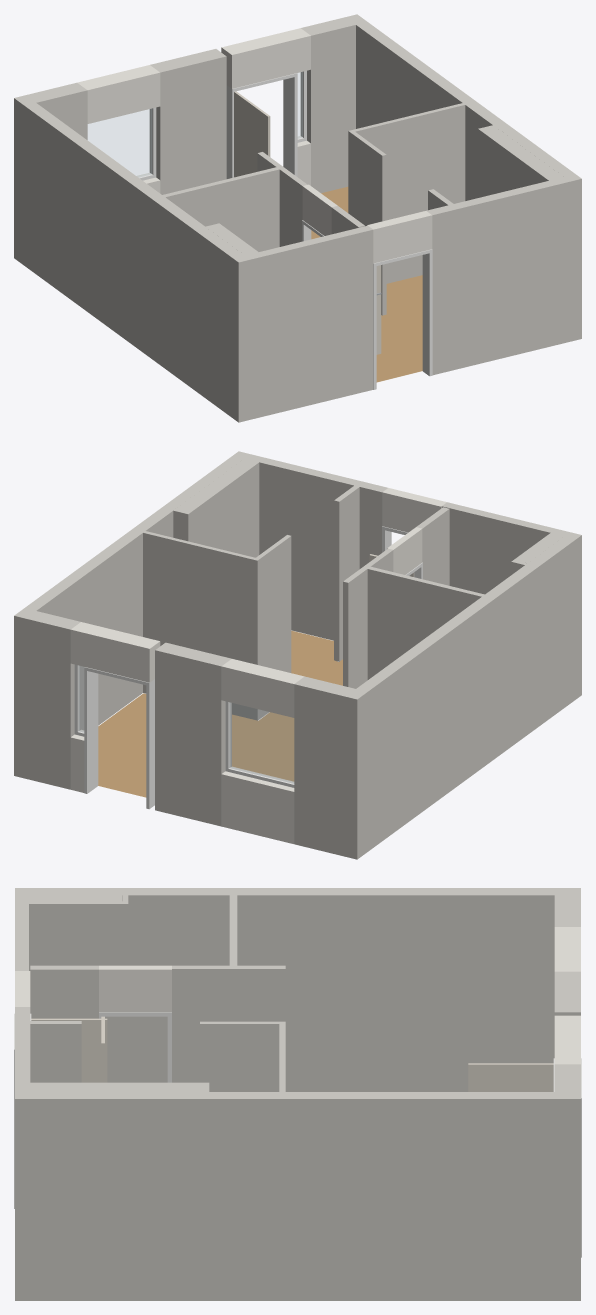
The picture shows the model from 3 angles, top to bottom: view 1: azimuth 30°, elevation 25°; view 2: azimuth 150°, elevation 25°; view 3: azimuth 270°, elevation 25°; orthographic projection. The views are drawn at different scales.
Visible parts, largest first — view 1: w10, w6, w4, wyposazenie-sciana, w11, w5, w7, w8, w2, wyposazenie-rama, r1, wyposazenie-szklo (+7 smaller); view 2: w10, wyposazenie-sciana, w7, w6, w11, w5, r1, w1, w8, w2, w4, w15 (+7 smaller); view 3: w11, w10, w16, wyposazenie-sciana, w13, w14, wyposazenie-skrzydlo, w17, w18, w12, w6, w5 (+8 smaller).
Boxes of the visible parts, x1=… form: w10: x1=14, y1=95, x2=250, y2=422; w6: x1=426, y1=177, x2=571, y2=375; w4: x1=244, y1=225, x2=373, y2=419; wyposazenie-sciana: x1=77, y1=28, x2=432, y2=263; w11: x1=347, y1=14, x2=581, y2=341; w5: x1=149, y1=49, x2=226, y2=194; w7: x1=348, y1=103, x2=465, y2=283; w8: x1=300, y1=17, x2=356, y2=192; w2: x1=161, y1=166, x2=284, y2=251; wyposazenie-rama: x1=137, y1=70, x2=432, y2=389; r1: x1=311, y1=186, x2=422, y2=382; wyposazenie-szklo: x1=88, y1=72, x2=302, y2=177; w10: x1=346, y1=532, x2=581, y2=859; wyposazenie-sciana: x1=70, y1=488, x2=446, y2=843; w7: x1=142, y1=531, x2=259, y2=720; w6: x1=244, y1=454, x2=387, y2=640; w11: x1=14, y1=451, x2=249, y2=778; w5: x1=155, y1=642, x2=231, y2=826; r1: x1=98, y1=630, x2=342, y2=797; w1: x1=294, y1=676, x2=356, y2=856; w8: x1=24, y1=610, x2=81, y2=789; w2: x1=364, y1=565, x2=485, y2=679; w4: x1=441, y1=502, x2=570, y2=594; w15: x1=183, y1=460, x2=259, y2=557; w11: x1=15, y1=1092, x2=580, y2=1300; w10: x1=15, y1=888, x2=580, y2=1091; w16: x1=28, y1=901, x2=128, y2=1082; wyposazenie-sciana: x1=15, y1=927, x2=580, y2=1064; w13: x1=200, y1=1021, x2=280, y2=1091; w14: x1=172, y1=965, x2=229, y2=1082; wyposazenie-skrzydlo: x1=31, y1=1016, x2=553, y2=1091; w17: x1=30, y1=965, x2=98, y2=1018; w18: x1=30, y1=1021, x2=81, y2=1082; w12: x1=237, y1=965, x2=285, y2=1021; w6: x1=15, y1=1007, x2=30, y2=1092; w5: x1=554, y1=971, x2=580, y2=1015.
Size of the model in its own units: 5.83 by 2.6 by 6.63.
